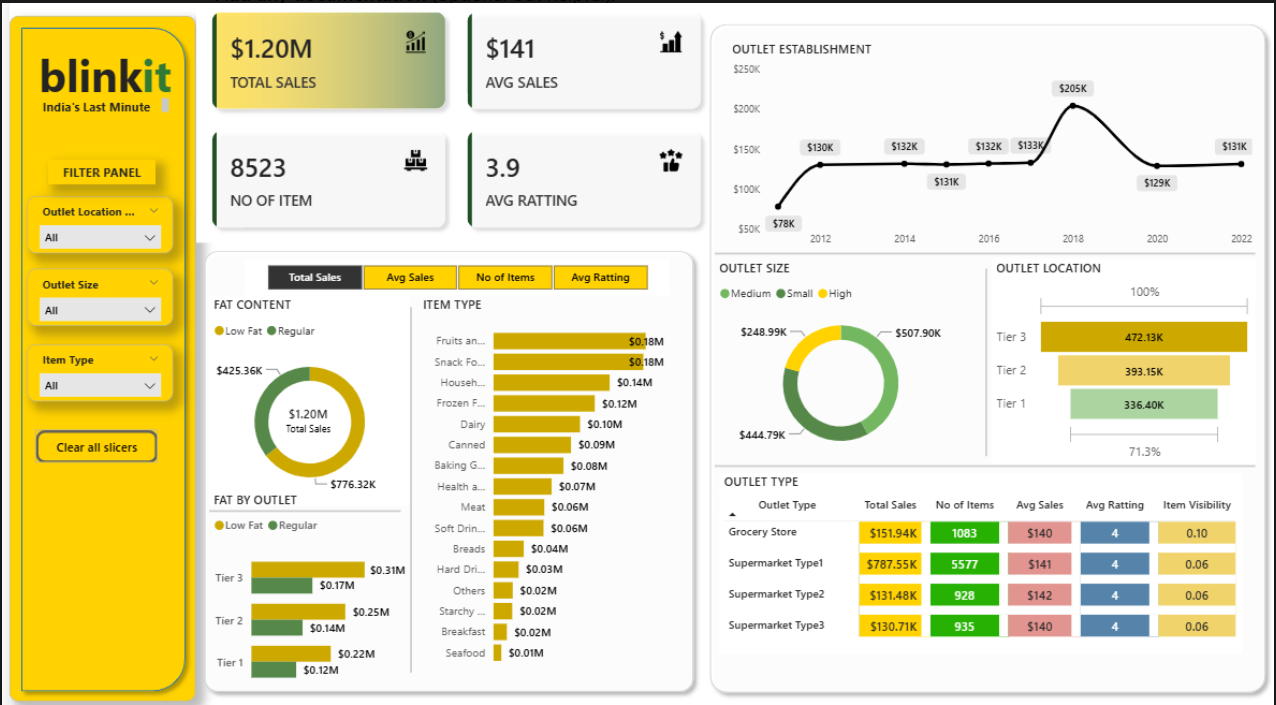

The page's visual inventory and layout, read from the dashboard file:
{"tool":"powerbi","page":{"name":"Page 1","canvas":[1400,800],"ordinal":0},"visuals":[{"type":"shape","box":[0,24,204,752],"z":0},{"type":"textbox","box":[20,51.4,171.4,88.6],"z":1000},{"type":"textbox","box":[20,110,160,30],"z":2000},{"type":"cardVisual","fields":{"Data":["BlinkIT Grocery Data.Total Sales","BlinkIT Grocery Data.Avg Sales","BlinkIT Grocery Data.No of Items","BlinkIT Grocery Data.Avg Ratting"]},"box":[204.3,4.3,570,270],"z":3000},{"type":"shape","box":[204.3,274.3,554.3,501.4],"z":4000},{"type":"donutChart","title":"FAT CONTENT","fields":{"Y":["BlinkIT Grocery Data.Total Sales"],"Category":["BlinkIT Grocery Data.Item Fat Content"]},"box":[218.6,331.4,220,230],"z":5000},{"type":"slicer","fields":{"Values":["Metrics.Metrics"]},"box":[257.1,291.4,465.7,40],"z":6000},{"type":"cardVisual","fields":{"Data":["BlinkIT Grocery Data.Total Sales"]},"box":[281.4,434.3,94.3,62.9],"z":7000},{"type":"clusteredBarChart","title":"FAT BY OUTLET","fields":{"Y":["BlinkIT Grocery Data.Total Sales"],"Category":["BlinkIT Grocery Data.Outlet Location Type"],"Series":["BlinkIT Grocery Data.Item Fat Content"]},"box":[218.6,545.7,220,230],"z":8000},{"type":"shape","box":[218.2,561.8,210,12.7],"z":9000},{"type":"shape","box":[432.7,344.5,15.5,400.9],"z":10000},{"type":"barChart","title":"ITEM TYPE","fields":{"Y":["BlinkIT Grocery Data.Total Sales"],"Category":["BlinkIT Grocery Data.Item Type"]},"box":[448.6,331.4,274.3,414.3],"z":11000},{"type":"shape","box":[758.6,24.3,627.1,751.4],"z":12000},{"type":"lineChart","title":"OUTLET ESTABLISHMENT","fields":{"Y":["BlinkIT Grocery Data.Total Sales"],"Category":["BlinkIT Grocery Data.Outlet Establishment Year"]},"box":[787.1,51.4,580,235],"z":13000},{"type":"shape","box":[774.3,278.6,592.9,12.9],"z":14000},{"type":"donutChart","title":"OUTLET SIZE","fields":{"Y":["BlinkIT Grocery Data.Total Sales"],"Category":["BlinkIT Grocery Data.Outlet Size"]},"box":[774.3,291.4,275.7,225.7],"z":15000},{"type":"shape","box":[1065.7,301.4,12.9,205.7],"z":16000},{"type":"funnel","title":"OUTLET LOCATION","fields":{"Y":["Sum(BlinkIT Grocery Data.Sales)"],"Category":["BlinkIT Grocery Data.Outlet Location Type"]},"box":[1077.1,291.4,290,225.7],"z":17000},{"type":"shape","box":[774.3,512.9,592.9,12.9],"z":18000},{"type":"pivotTable","title":"OUTLET TYPE","fields":{"Values":["BlinkIT Grocery Data.Total Sales","BlinkIT Grocery Data.No of Items","BlinkIT Grocery Data.Avg Sales","BlinkIT Grocery Data.Avg Ratting","Avg(BlinkIT Grocery Data.Item Visibility)"],"Rows":["BlinkIT Grocery Data.Outlet Type"]},"box":[778.6,525.7,574.3,198.6],"z":19000},{"type":"slicer","fields":{"Values":["BlinkIT Grocery Data.Outlet Location Type"]},"box":[20,222.9,160,62.9],"z":20000},{"type":"slicer","fields":{"Values":["BlinkIT Grocery Data.Outlet Size"]},"box":[20,301.4,160,62.9],"z":21000},{"type":"slicer","fields":{"Values":["BlinkIT Grocery Data.Item Type"]},"box":[20,384.3,160,62.9],"z":22000},{"type":"textbox","box":[42.4,181.9,118.3,28.3],"z":23000},{"type":"actionButton","box":[27.5,478.8,133.8,36.2],"z":23001}]}

Visuals, with their boxes on the page's 1400x800 design canvas (x1, y1, x2, y2). These are canvas units, not pixel positions in the 1276x705 screenshot, which may show the page scaled, cropped or inside an application window:
shape: [0, 24, 204, 776]
textbox: [20, 51, 191, 140]
textbox: [20, 110, 180, 140]
cardVisual - BlinkIT Grocery Data.Total Sales x BlinkIT Grocery Data.Avg Sales: [204, 4, 774, 274]
shape: [204, 274, 759, 776]
"FAT CONTENT" donutChart: [219, 331, 439, 561]
slicer - Metrics.Metrics: [257, 291, 723, 331]
cardVisual - BlinkIT Grocery Data.Total Sales: [281, 434, 376, 497]
"FAT BY OUTLET" clusteredBarChart: [219, 546, 439, 776]
shape: [218, 562, 428, 574]
shape: [433, 344, 448, 745]
"ITEM TYPE" barChart: [449, 331, 723, 746]
shape: [759, 24, 1386, 776]
"OUTLET ESTABLISHMENT" lineChart: [787, 51, 1367, 286]
shape: [774, 279, 1367, 292]
"OUTLET SIZE" donutChart: [774, 291, 1050, 517]
shape: [1066, 301, 1079, 507]
"OUTLET LOCATION" funnel: [1077, 291, 1367, 517]
shape: [774, 513, 1367, 526]
"OUTLET TYPE" pivotTable: [779, 526, 1353, 724]
slicer - BlinkIT Grocery Data.Outlet Location Type: [20, 223, 180, 286]
slicer - BlinkIT Grocery Data.Outlet Size: [20, 301, 180, 364]
slicer - BlinkIT Grocery Data.Item Type: [20, 384, 180, 447]
textbox: [42, 182, 161, 210]
actionButton: [28, 479, 161, 515]
